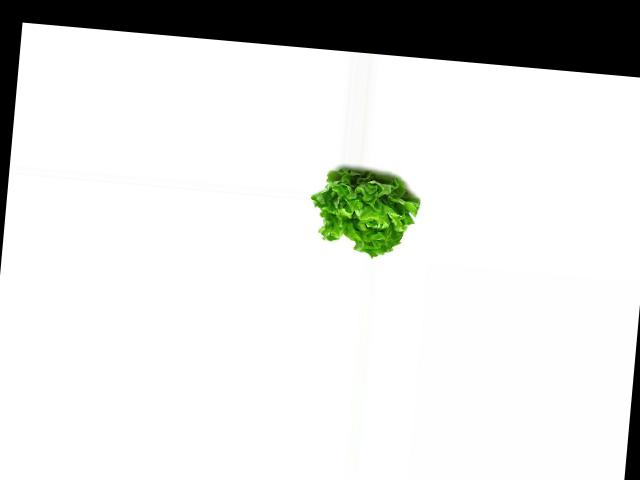lettuce: (307, 163, 420, 260)
